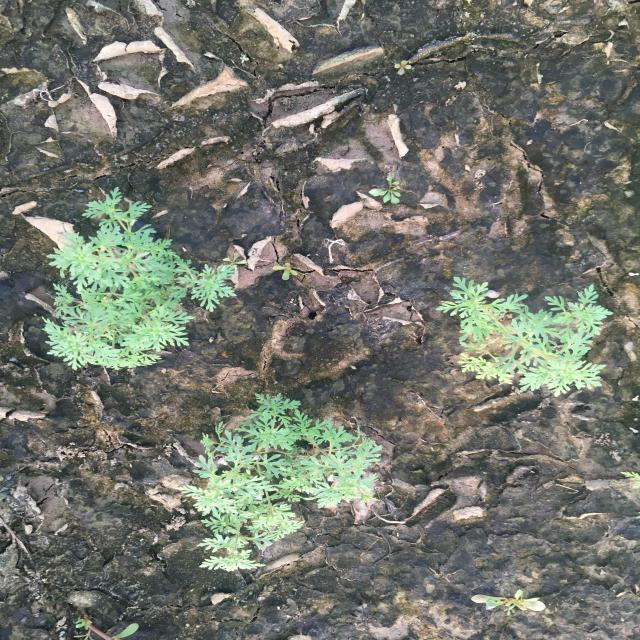Carpetweed: (469, 588, 547, 618), (366, 170, 406, 207)
Ragweed: (174, 391, 386, 573), (38, 186, 240, 372), (435, 276, 615, 398)
